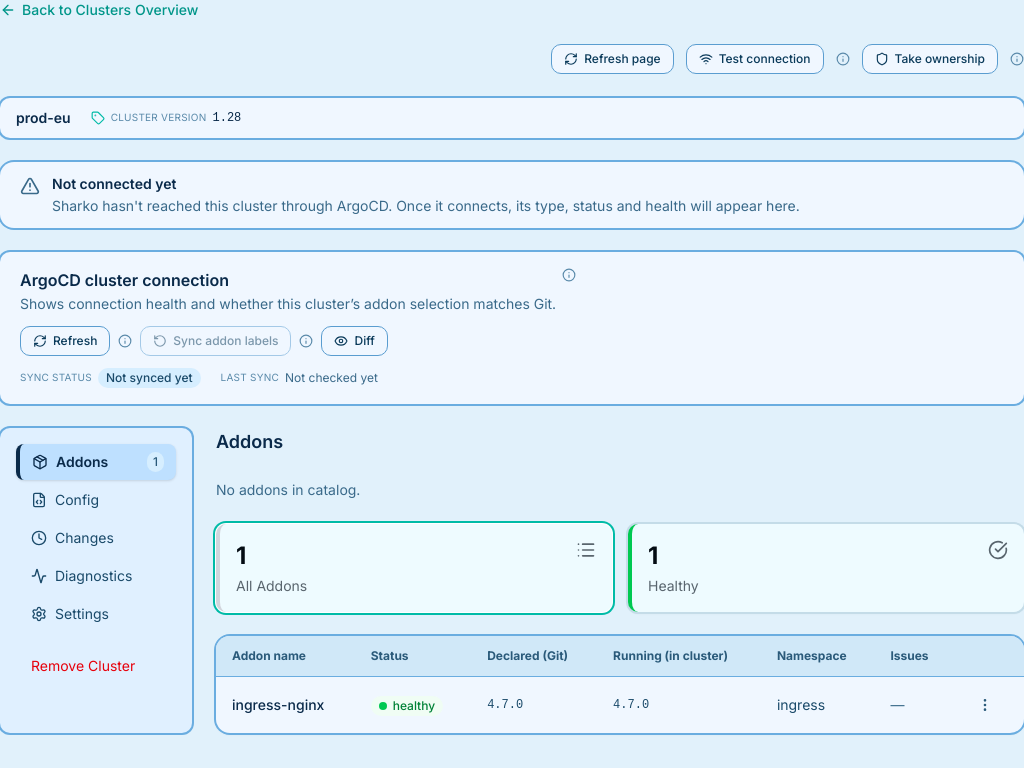
Test case: ClusterDetail — connection doctor button (HD1, V3) › doctor result PERSISTS in-section — it does not auto-dismiss after resolving
Expected: the heading "prod-eu" is shown, [16,108,71,128]
Click the button "Diagnostics": (96, 576) [16,558,176,594]
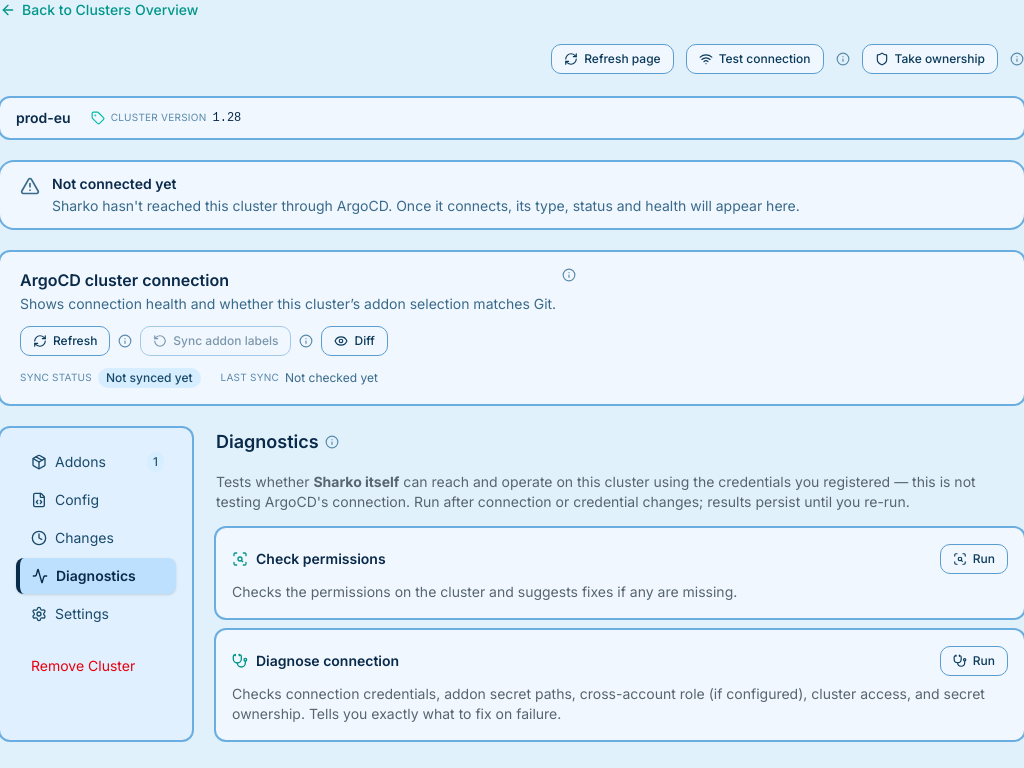
Expected: the button with test id "run-connection-doctor" is shown
Click the button with test id "run-connection-doctor": (974, 661) [940,646,1008,676]
(page scrolled)
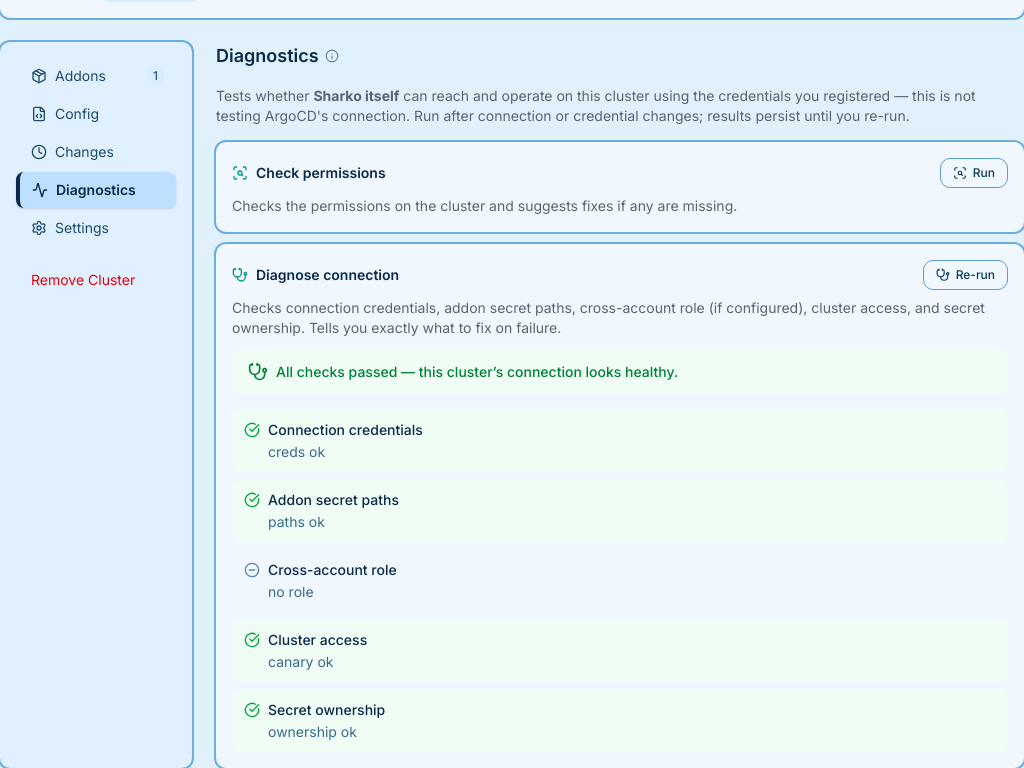
Expected: the element with test id "doctor-checks" is shown, [232,410,1008,752]
Expected: the text "All checks passed — this cluster’s connection looks healthy." is shown, [232,350,1008,394]
Expected: the element with test id "doctor-check-connection-credentials" is shown, [232,410,1008,472]
